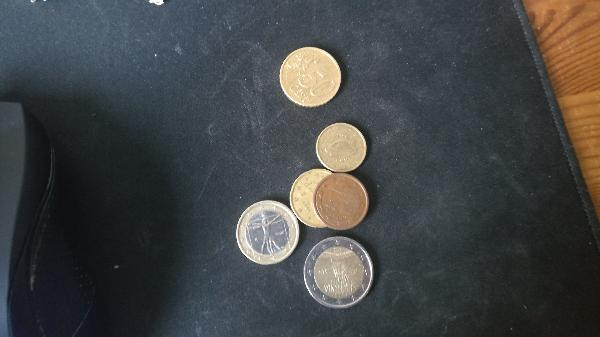Fifty Cent: (280, 43, 344, 104)
Five Cent: (316, 171, 372, 233)
One Euro: (236, 200, 303, 266)
Ten Cent: (314, 123, 372, 172)
Twenty Cent: (289, 168, 341, 227)
Two Euro: (305, 234, 383, 304)
